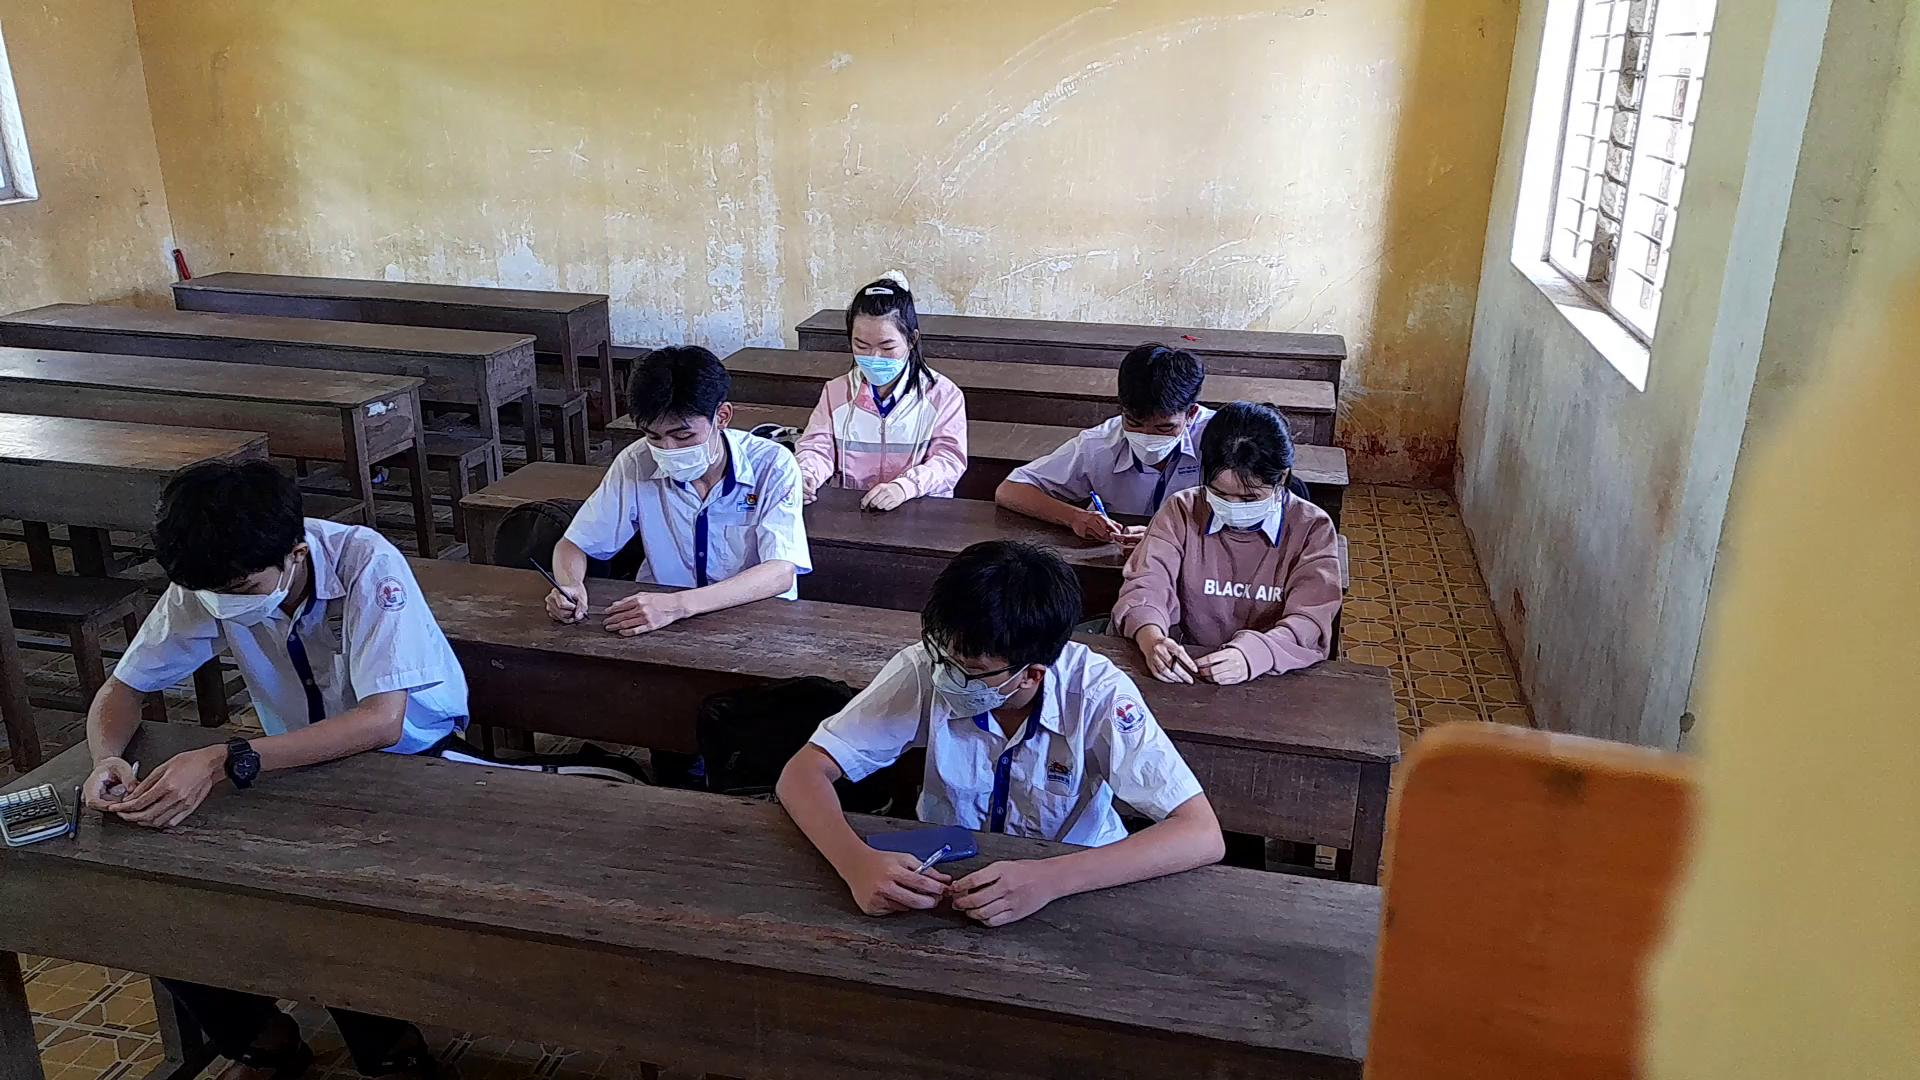Bend Over The Desk: (1189, 389, 1307, 539)
Look Around: (909, 535, 1091, 715)
Normal: (69, 444, 469, 833), (525, 324, 811, 644), (773, 253, 988, 518), (986, 323, 1205, 525)
